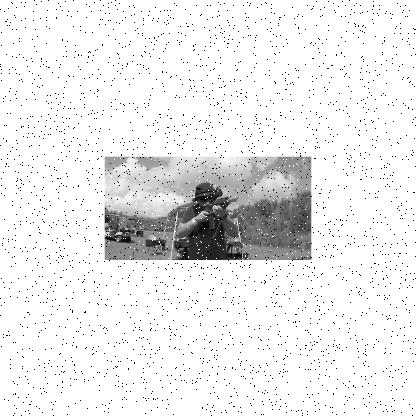gun: (191, 195, 237, 229)
